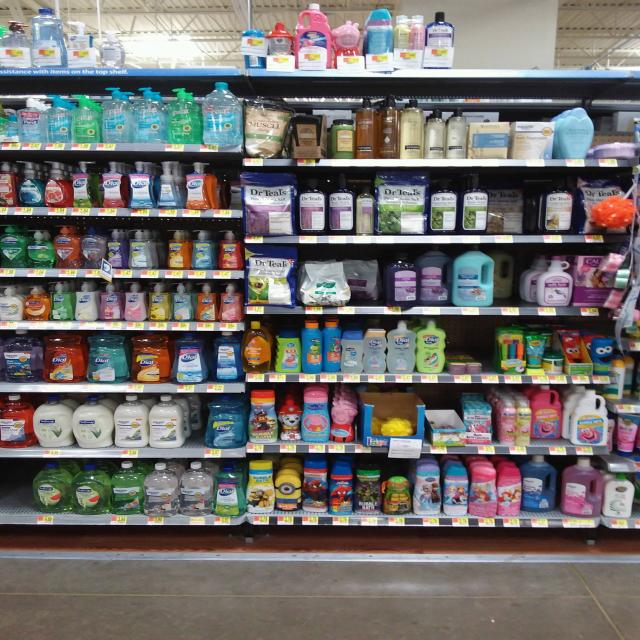empty: (445, 17, 640, 75), (127, 19, 247, 71), (1, 463, 36, 513)
